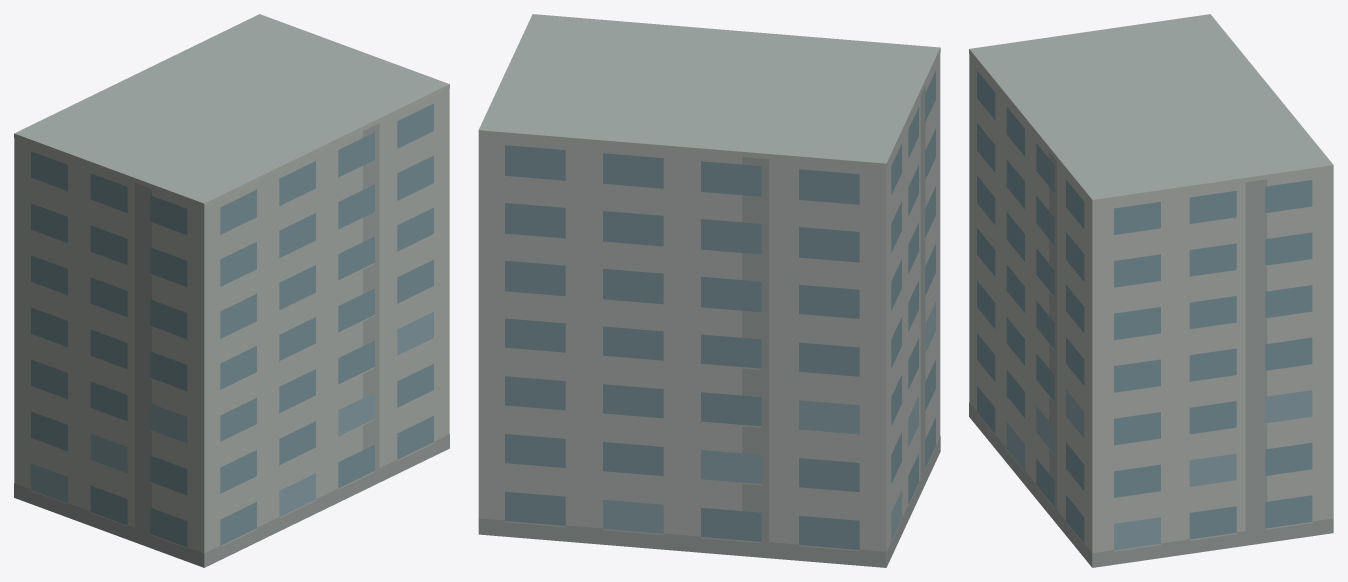
Rendered from survey-upis-32936173.glb.
3 views of the same model, side by side, from view 1: azimuth 30°, elevation 25°; view 2: azimuth 150°, elevation 25°; view 3: azimuth 270°, elevation 25° (orthographic). The views are drawn at different scales.
Visible parts, largest first — view 1: survey-upis-32936173.tmp; view 2: survey-upis-32936173.tmp; view 3: survey-upis-32936173.tmp.
Boxes of the visible parts, x1,y1,x2,y2 form: survey-upis-32936173.tmp: [14, 14, 449, 567]; survey-upis-32936173.tmp: [478, 14, 940, 567]; survey-upis-32936173.tmp: [969, 14, 1333, 567].
Bounding box in the file's own units: 20.93 × 19.3 × 17.34.
